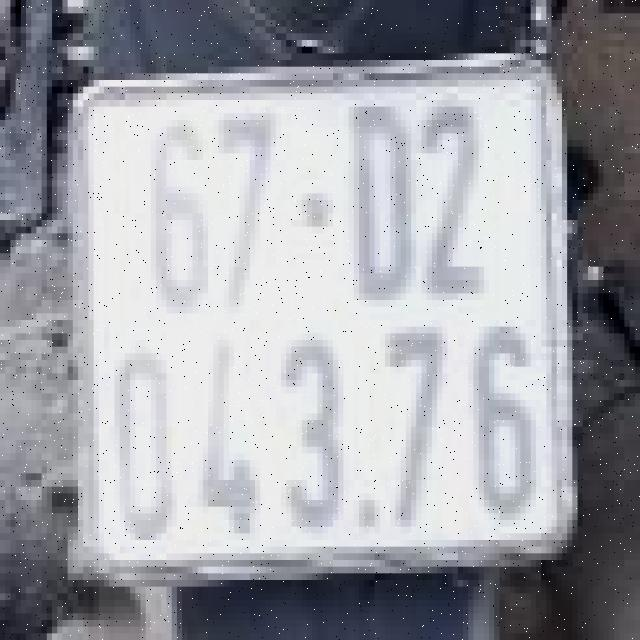0: (102, 327, 180, 560)
2: (414, 93, 497, 300)
3: (271, 316, 359, 536)
4: (187, 333, 271, 540)
6: (135, 117, 208, 323), (468, 326, 541, 526)
7: (388, 307, 455, 540), (213, 100, 276, 313)
D: (341, 83, 419, 310)
